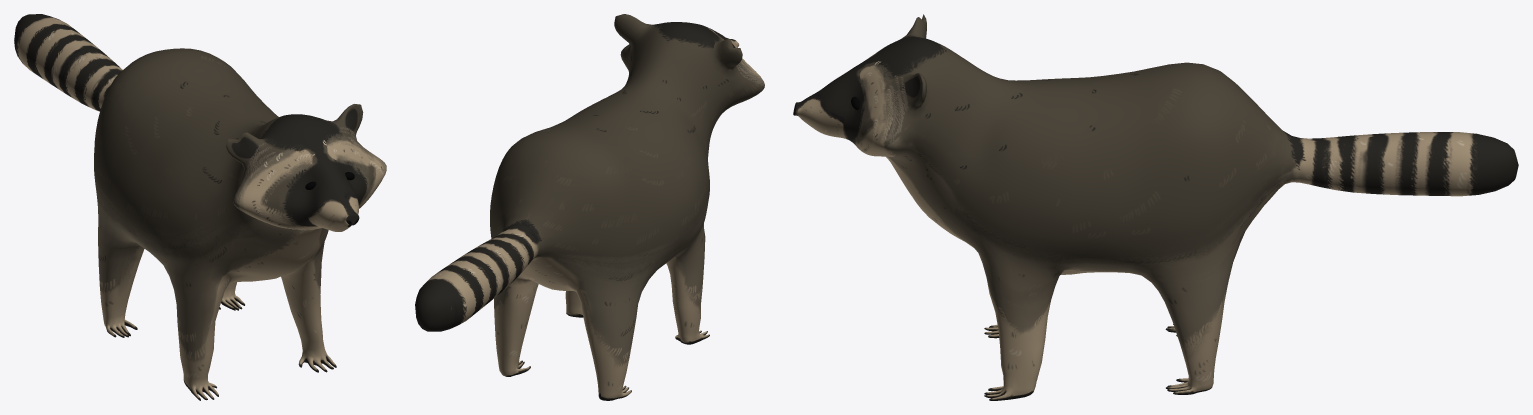
Rendered from Fig_Static.fbx.
3 renders of one model, left to right at view 1: azimuth 30°, elevation 25°; view 2: azimuth 150°, elevation 25°; view 3: azimuth 270°, elevation 25°, orthographic. The views are drawn at different scales.
Visible parts, largest first — view 1: LeanRacoon; view 2: LeanRacoon; view 3: LeanRacoon.
Part boxes in pixels (left/top/right/bottom): LeanRacoon: left=14, top=14, right=386, bottom=400; LeanRacoon: left=415, top=14, right=764, bottom=400; LeanRacoon: left=793, top=14, right=1518, bottom=400.
Size of the model in its own units: 60.08 by 100 by 206.
